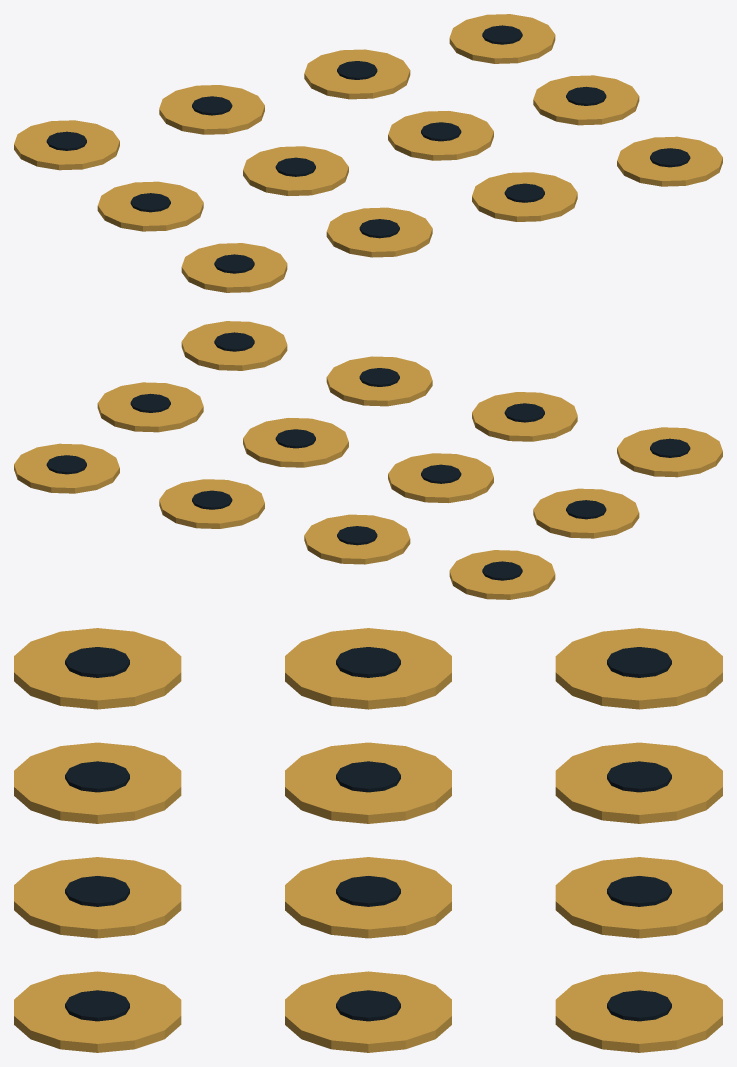
Rendered from 164_L110_ViaArray05_Reference.fbx.
3 views of the same model, one above another, from view 1: azimuth 30°, elevation 25°; view 2: azimuth 150°, elevation 25°; view 3: azimuth 270°, elevation 25° (orthographic). The views are drawn at different scales.
Visible parts, largest first — view 1: L110_ViaArray05_Reference_GOLD, L110_ViaArray05_Reference_PCB; view 2: L110_ViaArray05_Reference_GOLD, L110_ViaArray05_Reference_PCB; view 3: L110_ViaArray05_Reference_GOLD, L110_ViaArray05_Reference_PCB.
Part boxes in pixels (x1,y1,x2,y2): L110_ViaArray05_Reference_GOLD: (14,14,722,292); L110_ViaArray05_Reference_PCB: (46,25,690,273); L110_ViaArray05_Reference_GOLD: (14,321,722,599); L110_ViaArray05_Reference_PCB: (46,332,690,580); L110_ViaArray05_Reference_GOLD: (14,628,722,1052); L110_ViaArray05_Reference_PCB: (65,647,671,1021).
Size of the model in its own units: 10.9 by 7.85 by 0.155.
